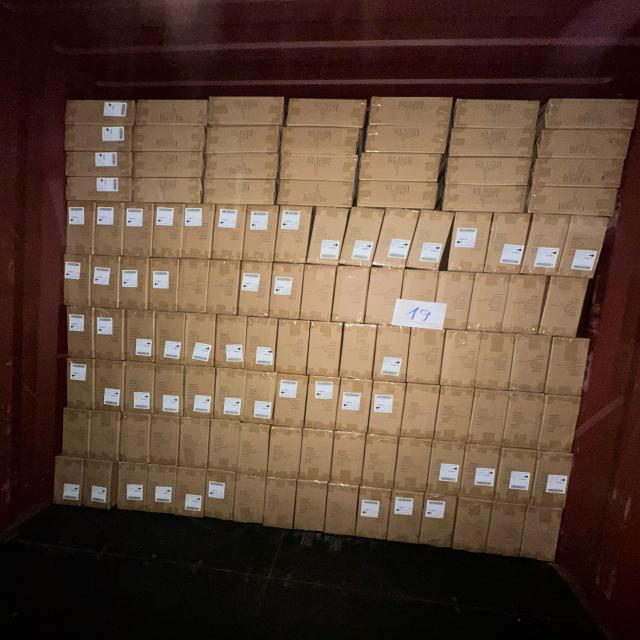Carton: (533, 128, 634, 162), (558, 213, 608, 279), (545, 97, 640, 131), (527, 183, 622, 217), (529, 159, 626, 192), (542, 274, 592, 338), (387, 271, 440, 331), (523, 214, 569, 278), (452, 98, 540, 130), (447, 128, 537, 158), (546, 336, 590, 397), (445, 157, 533, 187), (442, 185, 528, 215), (448, 213, 490, 274), (487, 214, 529, 275), (367, 126, 452, 156), (506, 276, 548, 336), (358, 154, 442, 184), (355, 182, 439, 212), (369, 96, 453, 126), (520, 506, 564, 563), (286, 98, 366, 129), (364, 266, 406, 325), (412, 211, 452, 272), (541, 395, 582, 454), (533, 452, 574, 510), (284, 128, 365, 157), (377, 210, 416, 270), (511, 335, 551, 393), (506, 392, 546, 450), (497, 448, 537, 505), (486, 503, 526, 560), (209, 96, 285, 126), (471, 274, 509, 334), (280, 155, 358, 184), (205, 126, 280, 156), (437, 271, 474, 331), (477, 332, 515, 390), (344, 207, 380, 267), (279, 180, 356, 208), (138, 96, 212, 125), (132, 125, 206, 154), (62, 124, 133, 154), (443, 330, 479, 389), (312, 207, 348, 266), (472, 391, 509, 448), (454, 499, 491, 555), (62, 96, 135, 124), (461, 444, 498, 499), (335, 266, 370, 324), (438, 388, 474, 444), (204, 152, 278, 179), (421, 496, 457, 551), (277, 208, 311, 266), (205, 178, 278, 205), (134, 151, 207, 178), (431, 440, 466, 496), (404, 384, 439, 440), (136, 180, 208, 207), (302, 265, 336, 322), (342, 324, 376, 381), (374, 327, 408, 383), (368, 379, 402, 435), (410, 331, 444, 387), (66, 151, 134, 179), (245, 207, 278, 264), (398, 438, 432, 493), (388, 490, 422, 545), (213, 204, 246, 260), (338, 378, 372, 432), (271, 263, 303, 320), (240, 262, 272, 319), (68, 179, 138, 205), (363, 433, 396, 488), (307, 375, 340, 430), (332, 430, 364, 486), (309, 324, 342, 378), (356, 489, 389, 543), (182, 204, 214, 259), (300, 428, 332, 483), (208, 260, 239, 316), (246, 319, 277, 375), (277, 322, 309, 376), (276, 373, 308, 427), (270, 427, 302, 481), (325, 486, 357, 539), (84, 461, 117, 512), (178, 258, 208, 314), (124, 202, 154, 258), (184, 315, 215, 369), (215, 317, 246, 371), (186, 366, 217, 420), (296, 481, 328, 533), (154, 203, 184, 258), (93, 200, 123, 255), (94, 308, 125, 361), (125, 310, 156, 363), (120, 259, 151, 312), (265, 479, 297, 530), (66, 200, 95, 256), (238, 422, 268, 476), (156, 364, 186, 418), (245, 370, 275, 424), (149, 258, 178, 313), (176, 467, 206, 520), (217, 368, 247, 421), (235, 474, 266, 525), (206, 470, 236, 522), (157, 314, 187, 366), (210, 421, 240, 473), (95, 360, 125, 412), (126, 363, 156, 415), (66, 356, 96, 408), (179, 419, 210, 469), (91, 411, 122, 461), (115, 464, 146, 514), (121, 414, 152, 463), (146, 466, 176, 516), (150, 418, 180, 468), (55, 458, 84, 509), (92, 257, 120, 309), (66, 306, 94, 358), (63, 256, 91, 308), (63, 408, 92, 458)
